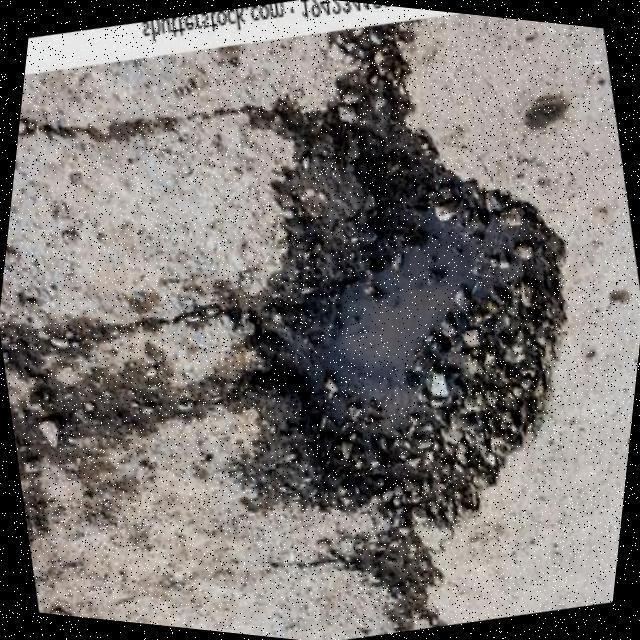Pothole: (221, 101, 569, 535)
